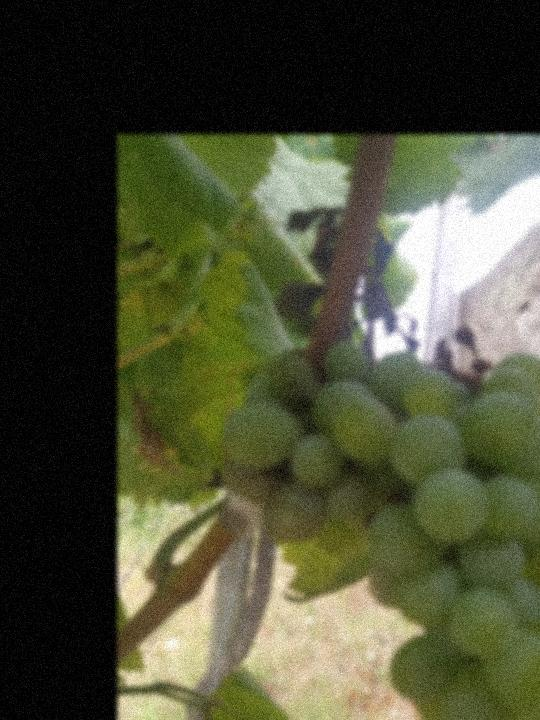grape: (217, 205, 540, 720)
